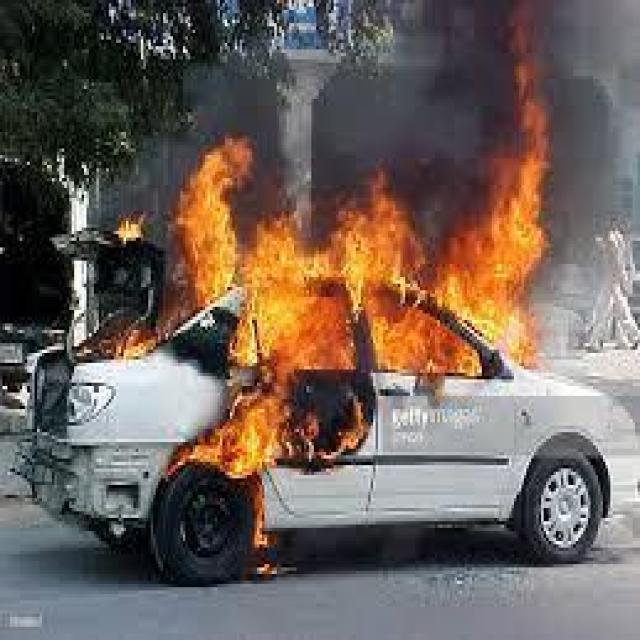fire: (28, 80, 612, 573), (490, 8, 552, 82)
